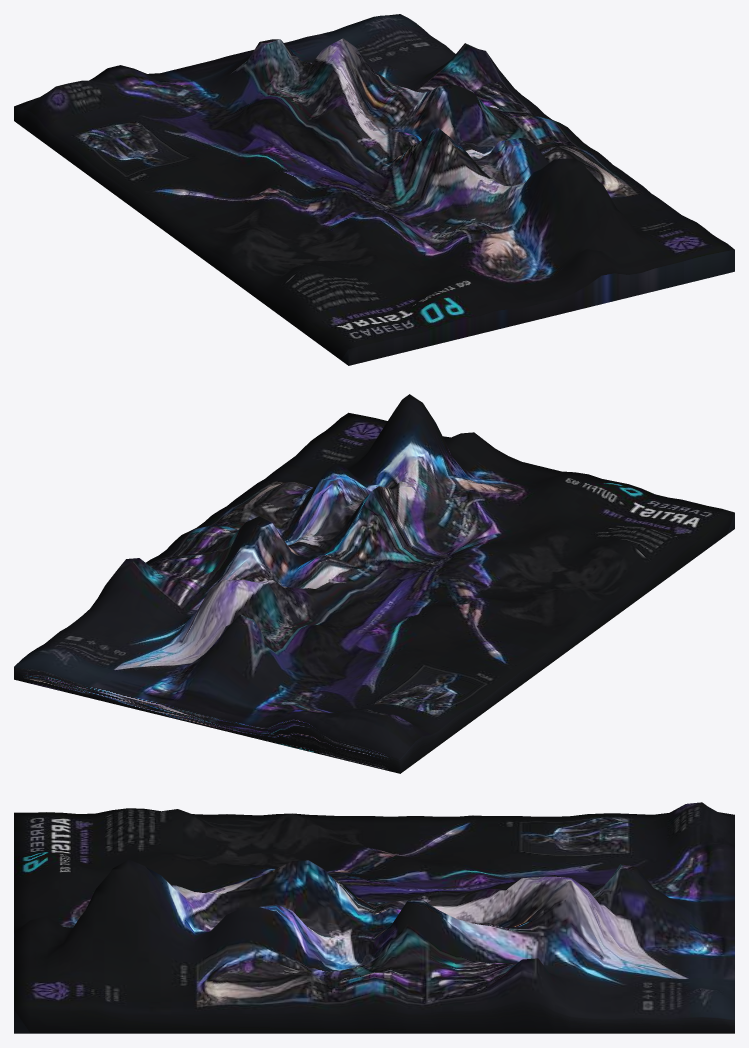
The model's file is CAREER_09_Outfit_03_Advanced.glb.
3 renders of one model, top to bottom at view 1: azimuth 30°, elevation 25°; view 2: azimuth 150°, elevation 25°; view 3: azimuth 270°, elevation 25°, orthographic. The views are drawn at different scales.
Visible parts, largest first — view 1: CAREER_09_Outfit_03_Advanced; view 2: CAREER_09_Outfit_03_Advanced; view 3: CAREER_09_Outfit_03_Advanced.
Boxes of the visible parts, <box> form: CAREER_09_Outfit_03_Advanced: <box>14,14,734,365</box>; CAREER_09_Outfit_03_Advanced: <box>14,394,734,773</box>; CAREER_09_Outfit_03_Advanced: <box>14,802,734,1033</box>.
Size of the model in its own units: 2 by 0.51 by 3.
1 material, 1 textured.
